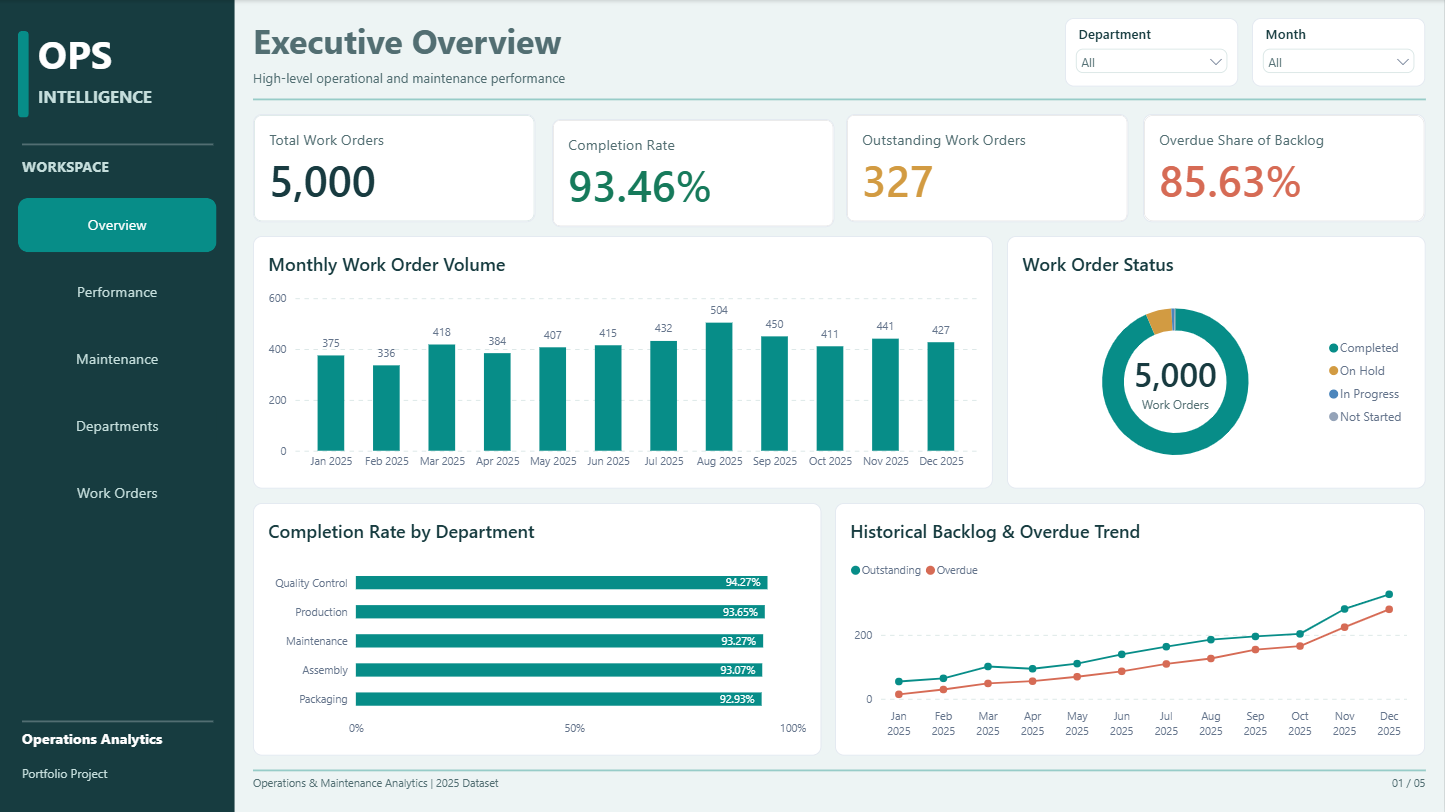

The page's visual inventory and layout, read from the dashboard file:
{"tool":"powerbi","page":{"name":"01 - Executive Overview","canvas":[1600,900],"ordinal":0},"visuals":[{"type":"shape","title":"shpSidebarBackground","box":[0,0,260,900],"z":0},{"type":"shape","title":"shpBrandAccent","box":[20,34,12,96],"z":1000},{"type":"textbox","title":"txtBrandTitle","box":[42,30,194,64],"z":2000},{"type":"textbox","title":"txtBrandSubtitle","box":[42,94,194,36],"z":3000},{"type":"shape","title":"shpSidebarDividerTop","box":[24,154,212,12],"z":4000},{"type":"textbox","title":"txtWorkspaceLabel","box":[24,174,212,36],"z":5000},{"type":"shape","title":"shpSidebarDividerBottom","box":[24,794,212,12],"z":6000},{"type":"textbox","title":"txtSidebarFooterTitle","box":[24,808,212,40],"z":7000},{"type":"textbox","title":"txtSidebarFooterSubtitle","box":[24,848,212,36],"z":8000},{"type":"textbox","title":"txtPageTitle","box":[280,20,880,60],"z":9000},{"type":"textbox","title":"txtPageSubtitle","box":[280.6,76.4,705.6,31.9],"z":10000},{"type":"shape","title":"shpHeaderDivider","box":[280,104,1300,12],"z":11000},{"type":"shape","title":"shpFooterDivider","box":[280,848,1300,12],"z":12000},{"type":"textbox","title":"txtFooterDescription","box":[280,858,1060,32],"z":13000},{"type":"textbox","title":"txtPageNumber","box":[1400,858,180,32],"z":14000},{"type":"actionButton","title":"btnNavOverview","box":[20,220,220,60],"z":15000},{"type":"actionButton","title":"btnNavPerformance","box":[20,294,220,60],"z":16000},{"type":"actionButton","title":"btnNavMaintenance","box":[20,368,220,60],"z":17000},{"type":"actionButton","title":"btnNavDepartments","box":[20,442,220,60],"z":18000},{"type":"actionButton","title":"btnNavWorkOrders","box":[20,516,220,60],"z":19000},{"type":"slicer","title":"slcDepartment","fields":{"Values":["Departments.Department"]},"box":[1180,20,192,76],"z":20000},{"type":"slicer","title":"slcMonth","fields":{"Values":["Calendar.Month Year"]},"box":[1388,20,192,76],"z":21000},{"type":"cardVisual","title":"Total Work Orders","fields":{"Data":["_Measures.Total Work Orders"]},"box":[280,126,313,120],"z":22000},{"type":"cardVisual","title":"crdCompletionRate","fields":{"Data":["_Measures.Completion Rate"]},"box":[611.8,131.9,313,120],"z":23000},{"type":"cardVisual","title":"crdOpenWorkOrders","fields":{"Data":["_Measures.Open Work Orders as of Reporting Date"]},"box":[938,126.4,313,120],"z":24000},{"type":"cardVisual","title":"crdOverdueRate","fields":{"Data":["_Measures.Overdue Rate"]},"box":[1267,126,313,120],"z":25000},{"type":"clusteredColumnChart","title":"Monthly Work Order Volume","fields":{"Category":["Calendar.Month Year"],"Y":["_Measures.Total Work Orders"]},"box":[280,262,820,280],"z":26000},{"type":"donutChart","title":"Work Order Status","fields":{"Category":["Work Orders.Status"],"Y":["_Measures.Total Work Orders"]},"box":[1116,262,464,280],"z":27000},{"type":"clusteredBarChart","title":"Completion Rate by Department","fields":{"Category":["Departments.Department"],"Y":["_Measures.Completion Rate"]},"box":[280,558,630,280],"z":28000},{"type":"lineChart","title":"Historical Backlog & Overdue Trend","fields":{"Category":["Calendar.Month Year"],"Y":["_Measures.Outstanding Work Orders","_Measures.Overdue Work Orders"]},"box":[926,558,654,280],"z":29000}]}

Visuals, with their boxes in screenshot pixels (x1, y1, x2, y2), scaled from the page's 1600x900 canvas onto the 1445x812 screenshot:
"shpSidebarBackground" shape: Rect(0, 0, 235, 811)
"shpBrandAccent" shape: Rect(18, 31, 29, 117)
"txtBrandTitle" textbox: Rect(38, 27, 213, 85)
"txtBrandSubtitle" textbox: Rect(38, 85, 213, 117)
"shpSidebarDividerTop" shape: Rect(22, 139, 213, 150)
"txtWorkspaceLabel" textbox: Rect(22, 157, 213, 189)
"shpSidebarDividerBottom" shape: Rect(22, 716, 213, 727)
"txtSidebarFooterTitle" textbox: Rect(22, 729, 213, 765)
"txtSidebarFooterSubtitle" textbox: Rect(22, 765, 213, 798)
"txtPageTitle" textbox: Rect(253, 18, 1048, 72)
"txtPageSubtitle" textbox: Rect(253, 69, 891, 98)
"shpHeaderDivider" shape: Rect(253, 94, 1427, 105)
"shpFooterDivider" shape: Rect(253, 765, 1427, 776)
"txtFooterDescription" textbox: Rect(253, 774, 1210, 803)
"txtPageNumber" textbox: Rect(1264, 774, 1427, 803)
"btnNavOverview" actionButton: Rect(18, 198, 217, 253)
"btnNavPerformance" actionButton: Rect(18, 265, 217, 319)
"btnNavMaintenance" actionButton: Rect(18, 332, 217, 386)
"btnNavDepartments" actionButton: Rect(18, 399, 217, 453)
"btnNavWorkOrders" actionButton: Rect(18, 466, 217, 520)
"slcDepartment" slicer: Rect(1066, 18, 1239, 87)
"slcMonth" slicer: Rect(1254, 18, 1427, 87)
"Total Work Orders" cardVisual: Rect(253, 114, 536, 222)
"crdCompletionRate" cardVisual: Rect(553, 119, 835, 227)
"crdOpenWorkOrders" cardVisual: Rect(847, 114, 1130, 222)
"crdOverdueRate" cardVisual: Rect(1144, 114, 1427, 222)
"Monthly Work Order Volume" clusteredColumnChart: Rect(253, 236, 993, 489)
"Work Order Status" donutChart: Rect(1008, 236, 1427, 489)
"Completion Rate by Department" clusteredBarChart: Rect(253, 503, 822, 756)
"Historical Backlog & Overdue Trend" lineChart: Rect(836, 503, 1427, 756)
